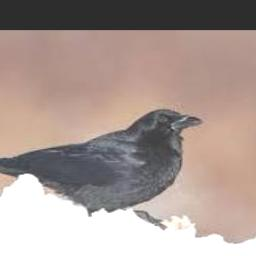Crow: (0, 109, 204, 233)
